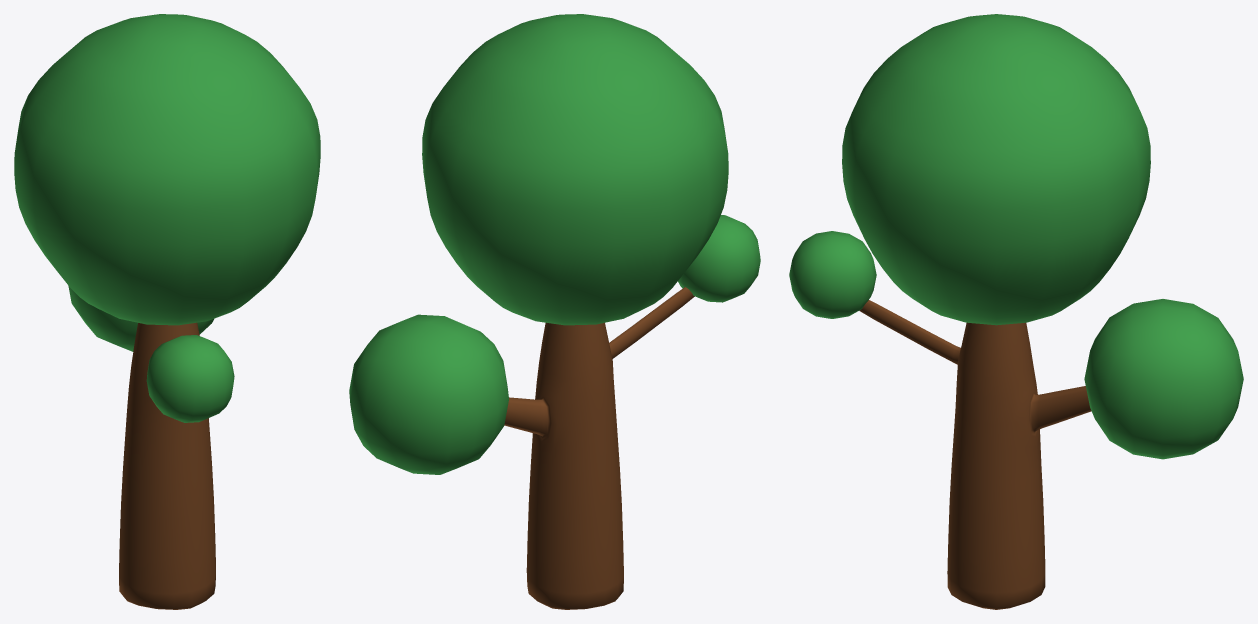
Rendered from LowPolyTree2.fbx.
3 views of the same model, side by side, from view 1: azimuth 30°, elevation 25°; view 2: azimuth 150°, elevation 25°; view 3: azimuth 270°, elevation 25° (orthographic).
Parts seen in each view (by area): view 1: Cylinder, Cube.001, Cube; view 2: Cylinder, Cube, Cube.001; view 3: Cylinder, Cube, Cube.001.
Part boxes in pixels (x1,y1,x2,y2): Cylinder: (14,14,320,609); Cube.001: (146,335,234,422); Cube: (68,286,213,351); Cylinder: (422,14,728,609); Cube: (349,314,508,474); Cube.001: (678,215,760,302); Cylinder: (842,14,1150,609); Cube: (1084,299,1243,459); Cube.001: (789,231,876,318).
Size of the model in its own units: 205 by 414 by 302.
